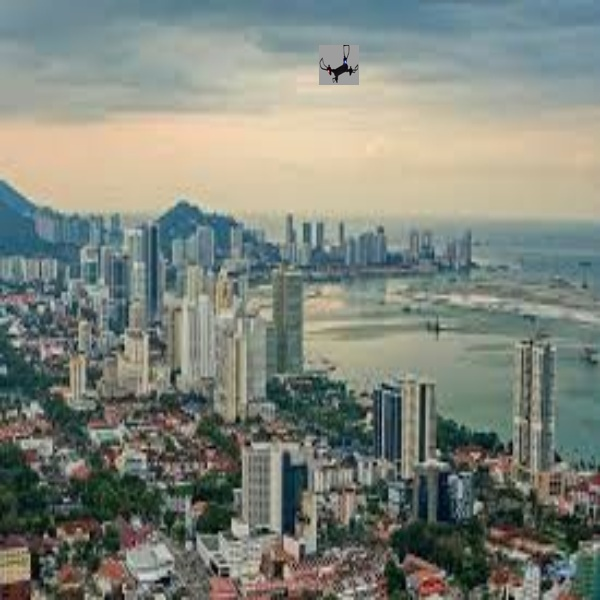drone: (318, 41, 363, 85)
